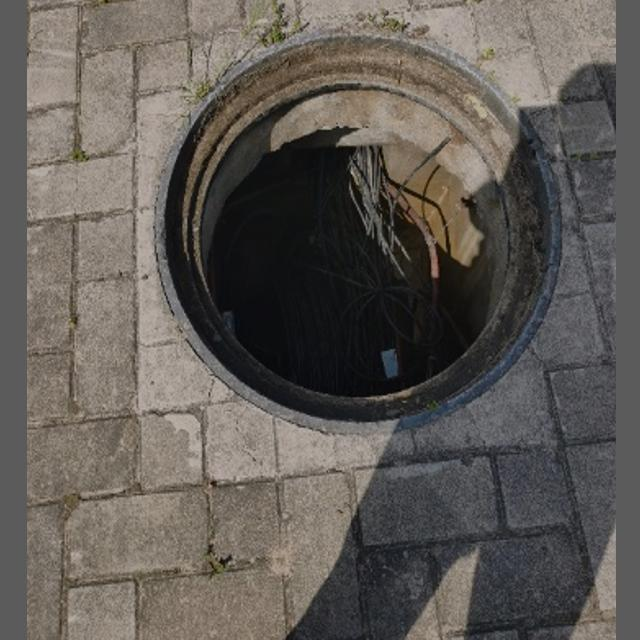lose: (151, 28, 563, 434)
